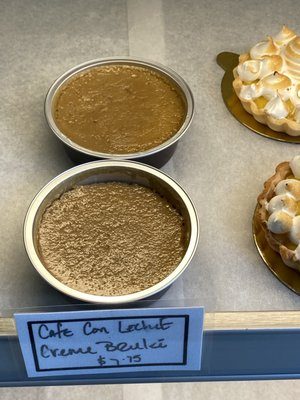sushi: (23, 160, 200, 306), (44, 57, 195, 168)
